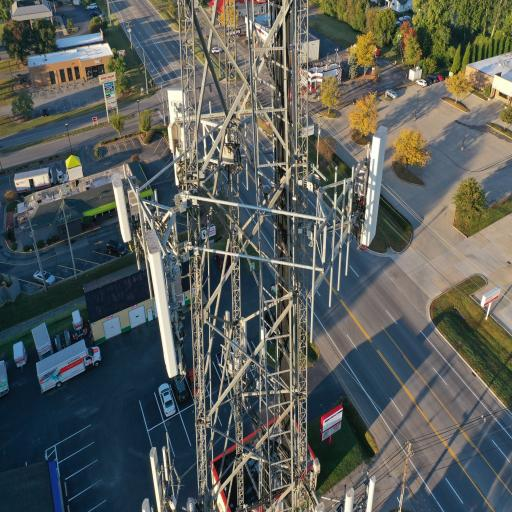supporting_tower: (108, 0, 408, 512)
